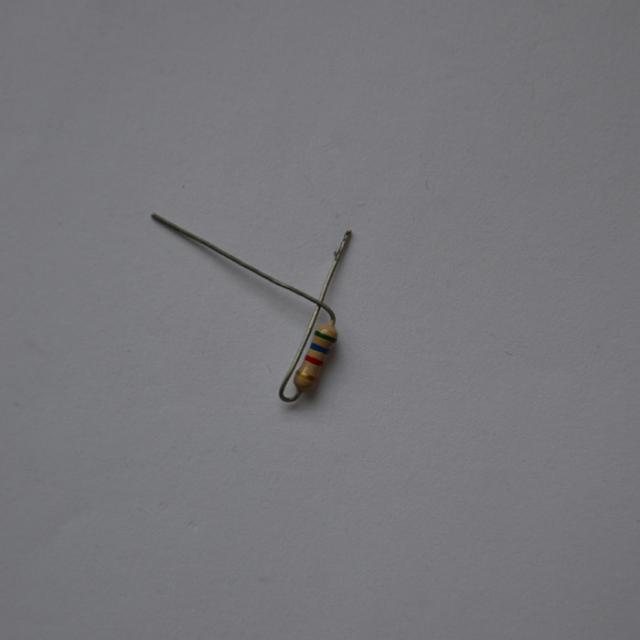blue: (311, 343, 328, 354)
gold: (296, 371, 315, 381)
green: (315, 330, 336, 341)
red: (304, 355, 323, 366)
resistor: (285, 319, 348, 398)
